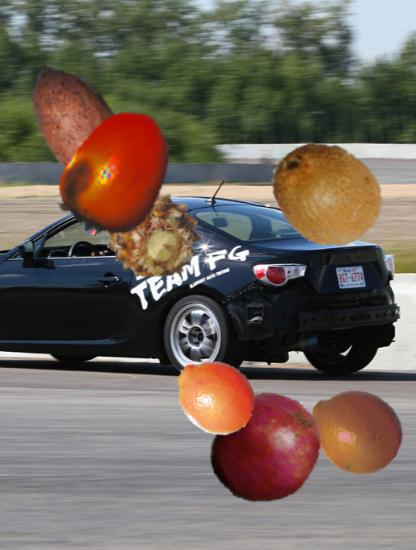Kaki: (52, 108, 183, 239)
Kiwi: (268, 136, 386, 254)
Nut: (6, 54, 153, 201)
Pineapple: (104, 184, 202, 282)
Pomegranate: (206, 389, 322, 505)
Tangelo: (309, 383, 404, 478), (172, 353, 257, 438)
